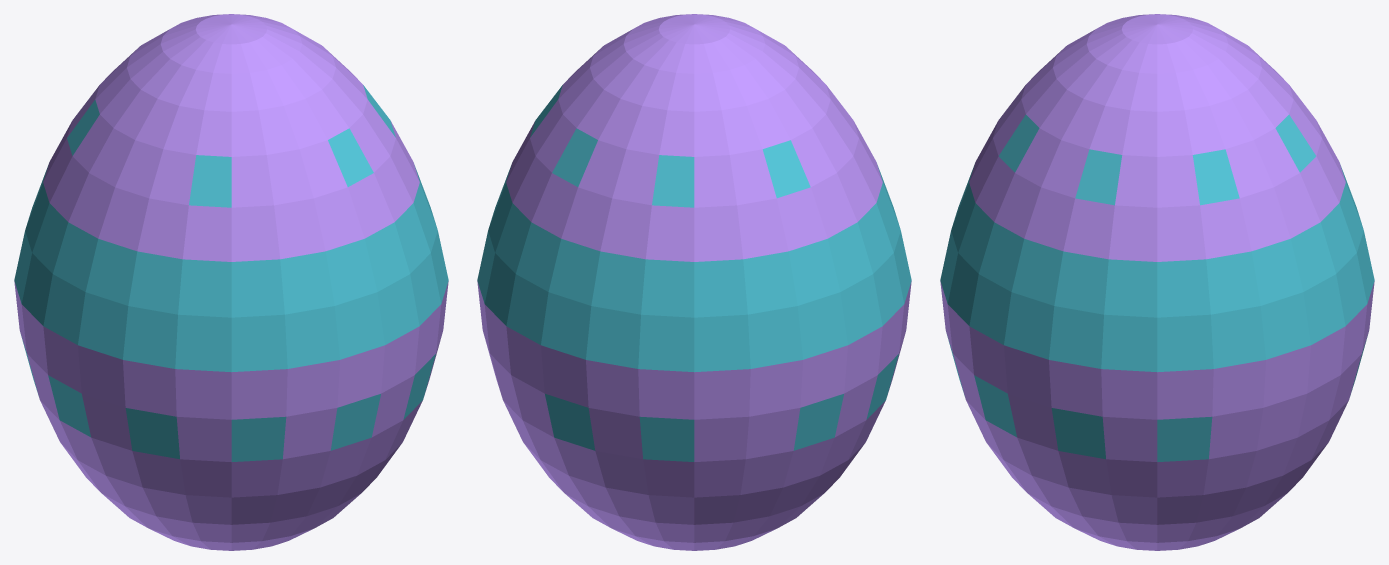
File: Egg_crystal.fbx
3 views of the same model, side by side, from view 1: azimuth 30°, elevation 25°; view 2: azimuth 150°, elevation 25°; view 3: azimuth 270°, elevation 25° (orthographic).
Parts seen in each view (by area): view 1: Egg_crystal; view 2: Egg_crystal; view 3: Egg_crystal.
Part boxes in pixels (x1,y1,x2,y2): Egg_crystal: [14, 14, 448, 550]; Egg_crystal: [477, 14, 911, 550]; Egg_crystal: [940, 14, 1374, 550].
Bounding box in the file's own units: 28 × 36.4 × 28.
